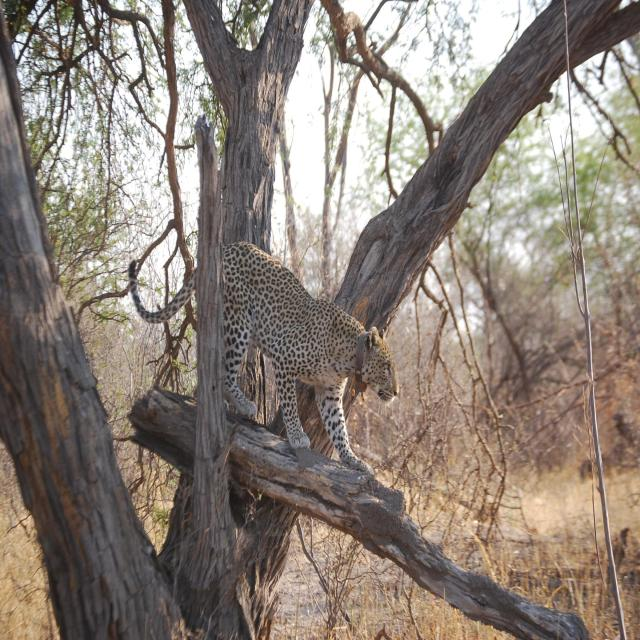Leopard: (123, 244, 402, 483)
